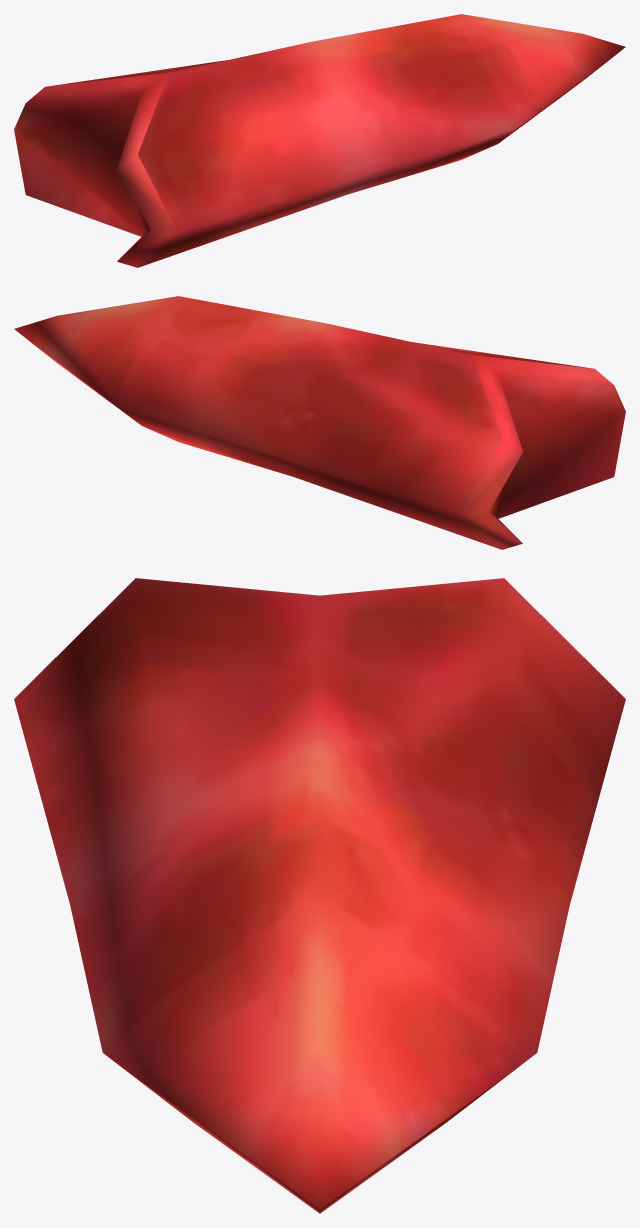
3 views of the same model, one above another, from view 1: azimuth 30°, elevation 25°; view 2: azimuth 150°, elevation 25°; view 3: azimuth 270°, elevation 25° (orthographic). The views are drawn at different scales.
Parts seen in each view (by area): view 1: SM_CrossbowBolt_Adamant_01_LOD0; view 2: SM_CrossbowBolt_Adamant_01_LOD0; view 3: SM_CrossbowBolt_Adamant_01_LOD0.
Part boxes in pixels (<box>): SM_CrossbowBolt_Adamant_01_LOD0: <box>14,14,625,267</box>; SM_CrossbowBolt_Adamant_01_LOD0: <box>14,296,625,549</box>; SM_CrossbowBolt_Adamant_01_LOD0: <box>14,578,625,1213</box>.
Size of the model in its own units: 0.0565 by 0.0166 by 0.0272.
